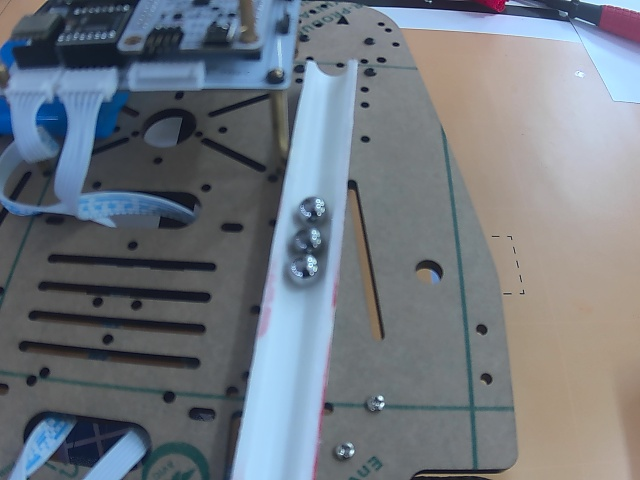steelball: (286, 255, 319, 285), (292, 227, 323, 252), (297, 197, 326, 223)
